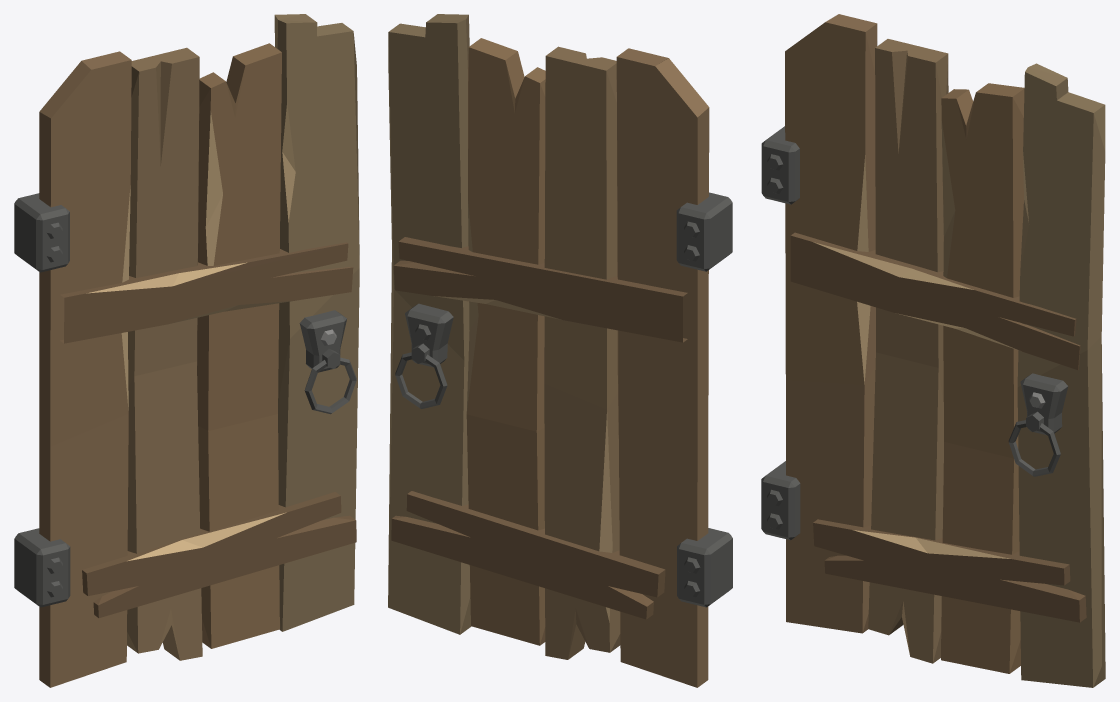
Rendered from rpgpp_ag_door_gate_02_left.fbx.
The picture shows the model from 3 angles, left to right: view 1: azimuth 30°, elevation 25°; view 2: azimuth 150°, elevation 25°; view 3: azimuth 330°, elevation 25°; orthographic projection.
Visible parts, largest first — view 1: rpgpp_ag_door_gate_02_left; view 2: rpgpp_ag_door_gate_02_left; view 3: rpgpp_ag_door_gate_02_left.
Part boxes in pixels (box(x1,y1,x2,y2)): rpgpp_ag_door_gate_02_left: box(14, 14, 359, 687); rpgpp_ag_door_gate_02_left: box(388, 14, 732, 687); rpgpp_ag_door_gate_02_left: box(761, 14, 1105, 687).
Bounding box in the file's own units: 2.11 × 3.72 × 0.4736.
